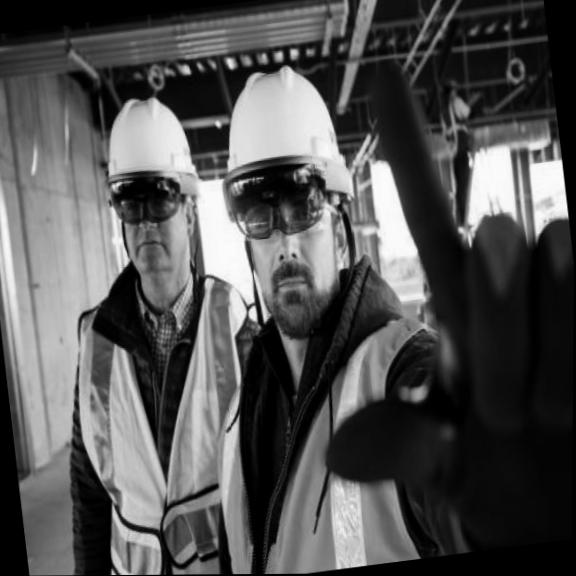safety_vest: (197, 295, 464, 575), (62, 261, 286, 576)
